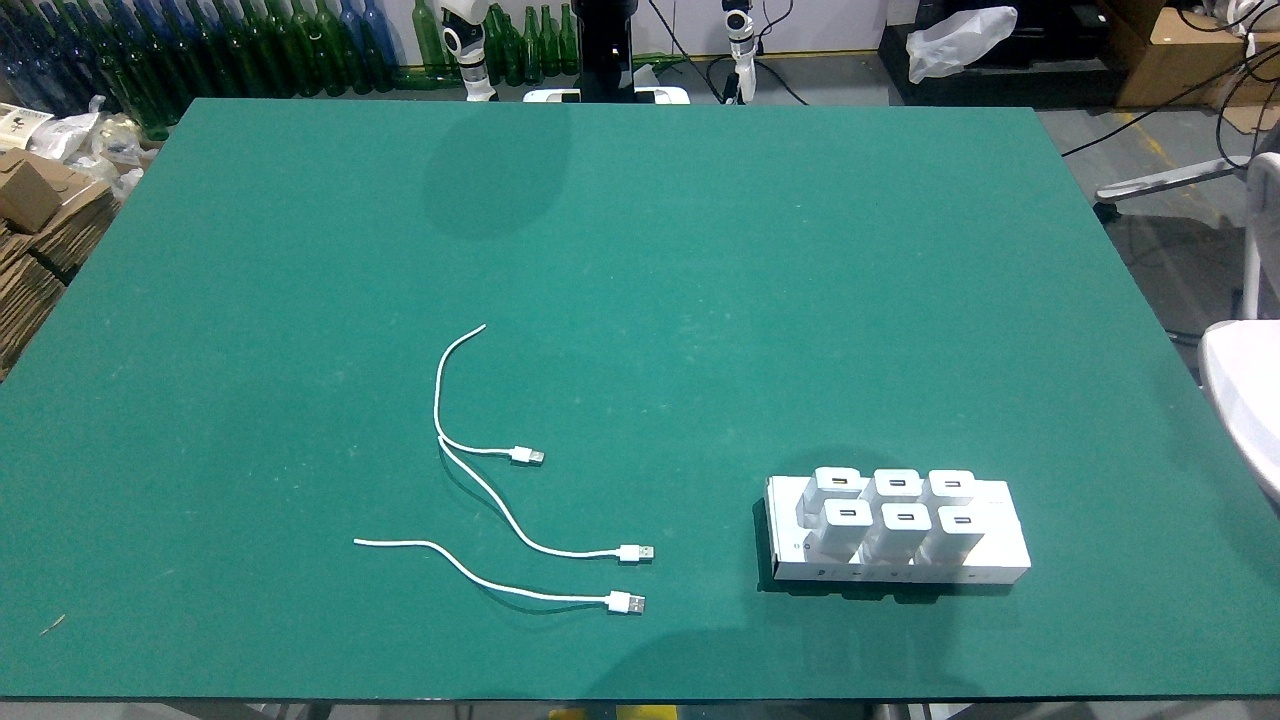usb_a_port: (951, 514, 974, 526), (887, 478, 909, 489), (837, 507, 858, 518), (895, 511, 916, 522), (828, 476, 850, 486), (941, 479, 963, 489)
